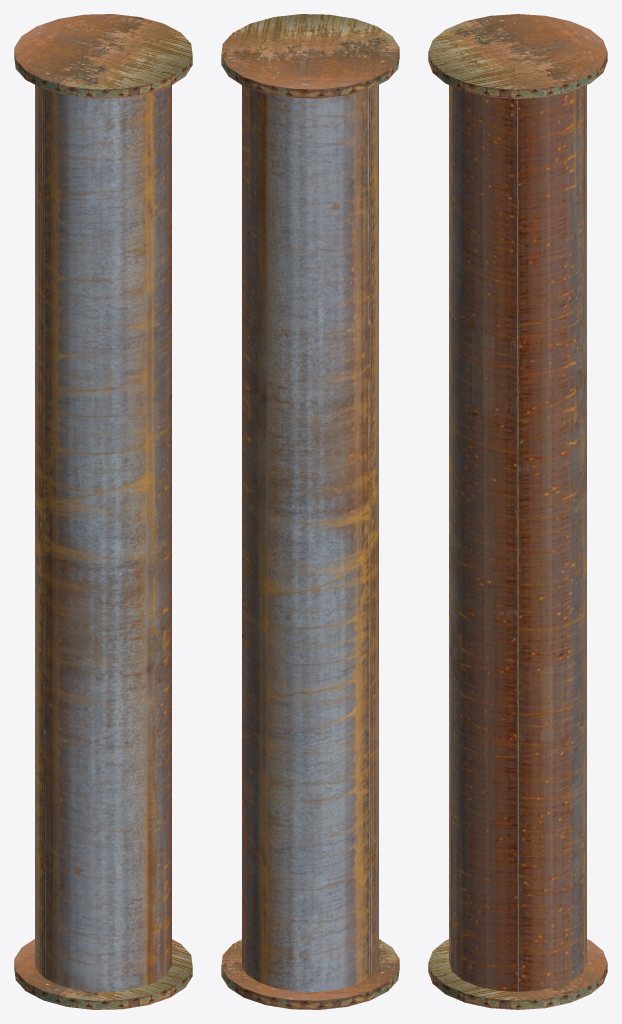
The model's file is pipe_05.fbx.
The picture shows the model from 3 angles, left to right: view 1: azimuth 30°, elevation 25°; view 2: azimuth 150°, elevation 25°; view 3: azimuth 270°, elevation 25°; orthographic projection.
Visible parts, largest first — view 1: pipe_05; view 2: pipe_05; view 3: pipe_05.
Boxes of the visible parts, x1,y1,x2,y2 form: pipe_05: (14, 14, 192, 1009); pipe_05: (221, 14, 399, 1009); pipe_05: (428, 14, 607, 1009).
Bounding box in the file's own units: 0.9015 × 5.1 × 0.9015.
